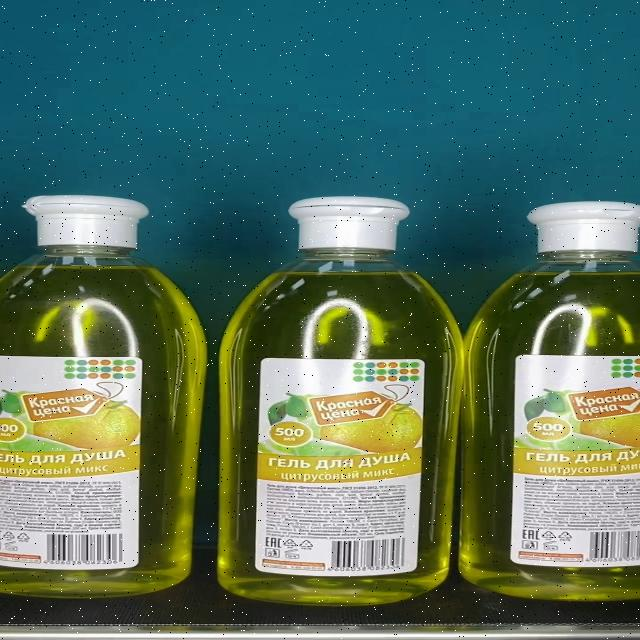Bottle: (218, 196, 462, 606), (0, 194, 209, 599)
Cap: (24, 195, 148, 248), (286, 197, 409, 250)
